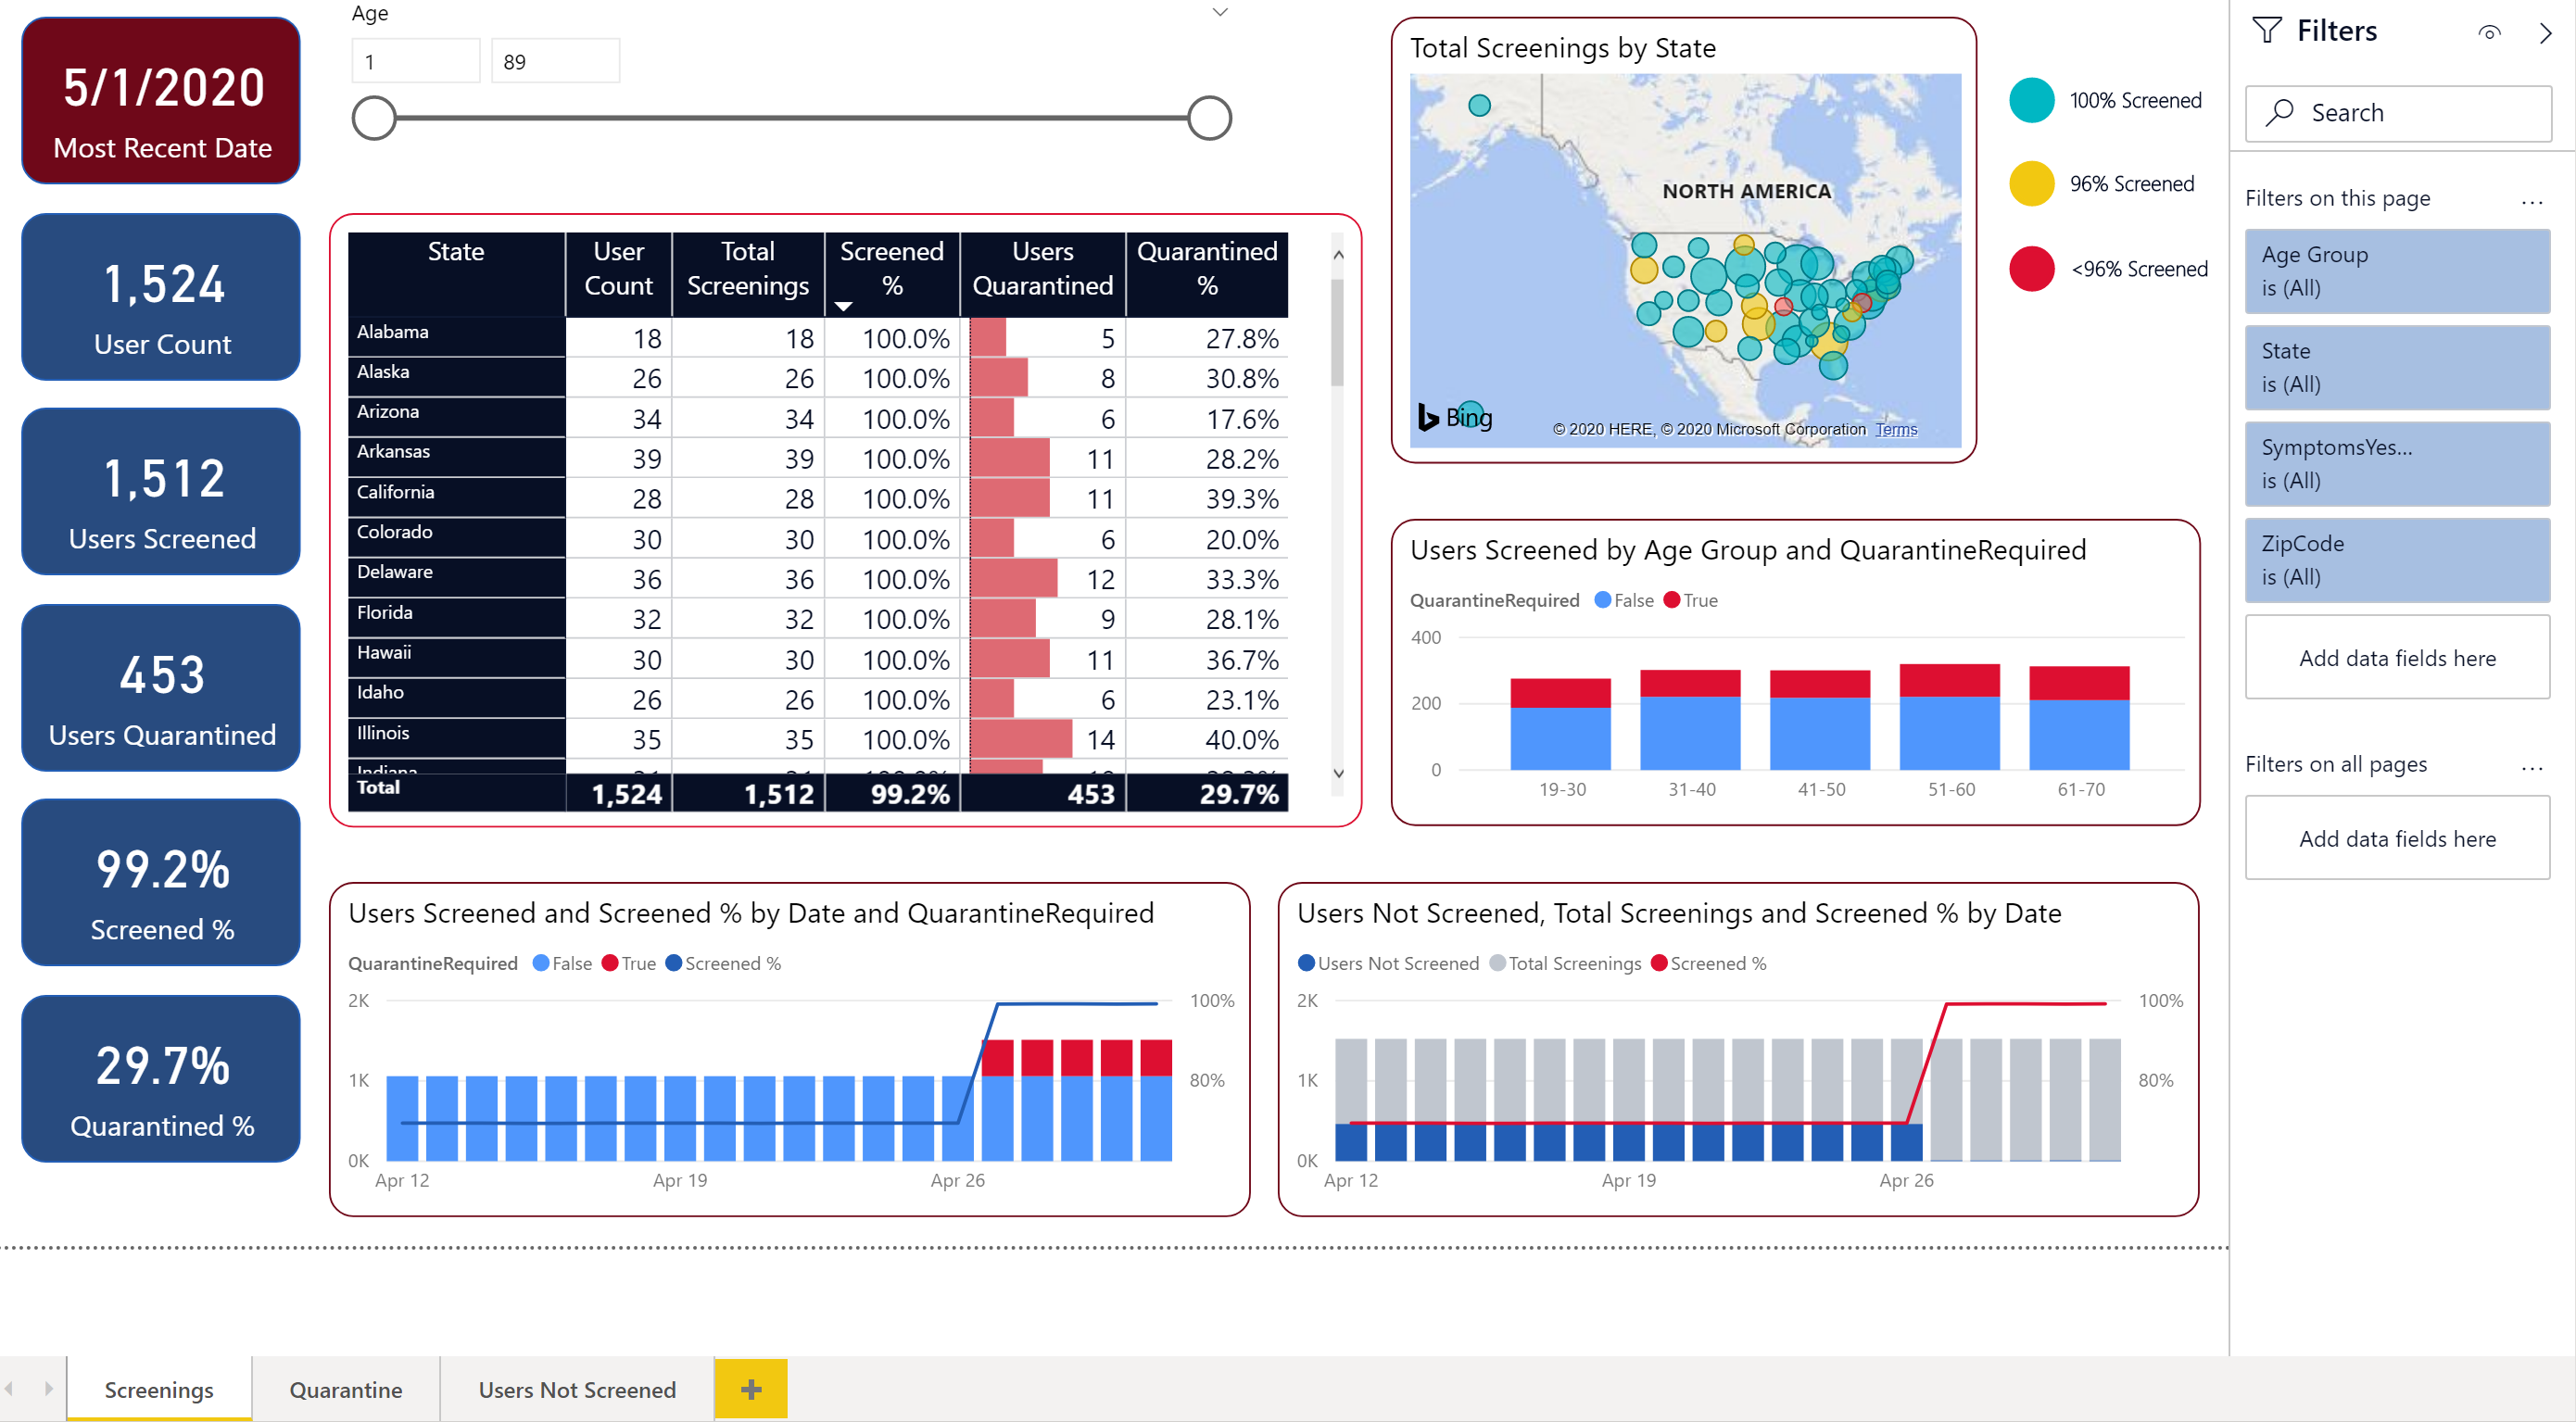

This screenshot's page, from the dashboard's own definition file:
{"tool":"powerbi","page":{"name":"Screenings","canvas":[1280,820],"ordinal":1},"visuals":[{"type":"lineStackedColumnComboChart","fields":{"Y":["Calculations.Users Screened","Calculations.Missed Screenings"],"Category":["Date.Date"],"Y2":["Calculations.Screened %"]},"box":[432,448,464,352],"z":0},{"type":"filledMap","fields":{"Category":["UserInfo.State","UserInfo.ZipCode"]},"box":[16,448,400,336],"z":1000},{"type":"basicShape","box":[21.4,781.5,32,32],"z":2000},{"type":"basicShape","box":[155,781.5,32,32],"z":3000},{"type":"basicShape","box":[283,781.5,32,32],"z":4000},{"type":"textbox","box":[53.4,781.5,112,32],"z":5000},{"type":"textbox","box":[187,781.5,112,32],"z":6000},{"type":"textbox","box":[315,781.5,112,32],"z":7000},{"type":"lineStackedColumnComboChart","fields":{"Y":["Calculations.Users Screened"],"Y2":["Calculations.Screened %"],"Category":["UserInfo.Role"]},"box":[864,208,400,224],"z":8000},{"type":"textbox","box":[192,0,1072,80],"z":9000},{"type":"pivotTable","fields":{"Values":["Calculations.User Count","Calculations.Screened %","Calculations.Missed Screenings","Calculations.Users Quarantined"],"Rows":["UserInfo.Role","UserInfo.State","UserInfo.ZipCode"]},"box":[256,208,592,224],"z":10000},{"type":"slicer","fields":{"Values":["Age Groups.Age Group"]},"box":[16,208,224,96],"z":11000},{"type":"slicer","fields":{"Values":["UserInfo.State"]},"box":[16,336,224,96],"z":12000},{"type":"pivotTable","title":"Locations with Missed Screenings (Drill for Employee Details)","fields":{"Values":["Calculations.Missed Screenings"],"Rows":["UserInfo.State"]},"box":[912,448,352,352],"z":13000},{"type":"card","fields":{"Values":["Calculations.User Count"]},"box":[16,80,176,96],"z":14000},{"type":"card","fields":{"Values":["Calculations.Users Quarrantined"]},"box":[432,80,176,96],"z":15000},{"type":"card","fields":{"Values":["Calculations.Screened %"]},"box":[224,80,176,96],"z":16000},{"type":"card","fields":{"Values":["Calculations.Quarantined %"]},"box":[640,80,176,96],"z":17000},{"type":"card","fields":{"Values":["Calculations.Positive Antibody %"]},"box":[1072,80,192,96],"z":18000},{"type":"card","fields":{"Values":["Calculations.Positive Antibody Tests"]},"box":[848,80,192,96],"z":19000}]}

Visuals, with their boxes on the page's 1280x820 design canvas (x1, y1, x2, y2). These are canvas units, not pixel positions in the 2576x1422 screenshot, which may show the page scaled, cropped or inside an application window:
lineStackedColumnComboChart - Calculations.Users Screened x Calculations.Missed Screenings: <box>432,448,896,800</box>
filledMap - UserInfo.State x UserInfo.ZipCode: <box>16,448,416,784</box>
basicShape: <box>21,782,53,814</box>
basicShape: <box>155,782,187,814</box>
basicShape: <box>283,782,315,814</box>
textbox: <box>53,782,165,814</box>
textbox: <box>187,782,299,814</box>
textbox: <box>315,782,427,814</box>
lineStackedColumnComboChart - Calculations.Users Screened x Calculations.Screened %: <box>864,208,1264,432</box>
textbox: <box>192,0,1264,80</box>
pivotTable - Calculations.User Count x Calculations.Screened %: <box>256,208,848,432</box>
slicer - Age Groups.Age Group: <box>16,208,240,304</box>
slicer - UserInfo.State: <box>16,336,240,432</box>
"Locations with Missed Screenings (Drill for Employee Details)" pivotTable: <box>912,448,1264,800</box>
card - Calculations.User Count: <box>16,80,192,176</box>
card - Calculations.Users Quarrantined: <box>432,80,608,176</box>
card - Calculations.Screened %: <box>224,80,400,176</box>
card - Calculations.Quarantined %: <box>640,80,816,176</box>
card - Calculations.Positive Antibody %: <box>1072,80,1264,176</box>
card - Calculations.Positive Antibody Tests: <box>848,80,1040,176</box>
